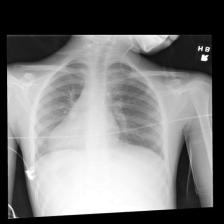normal: (27, 56, 168, 179)
